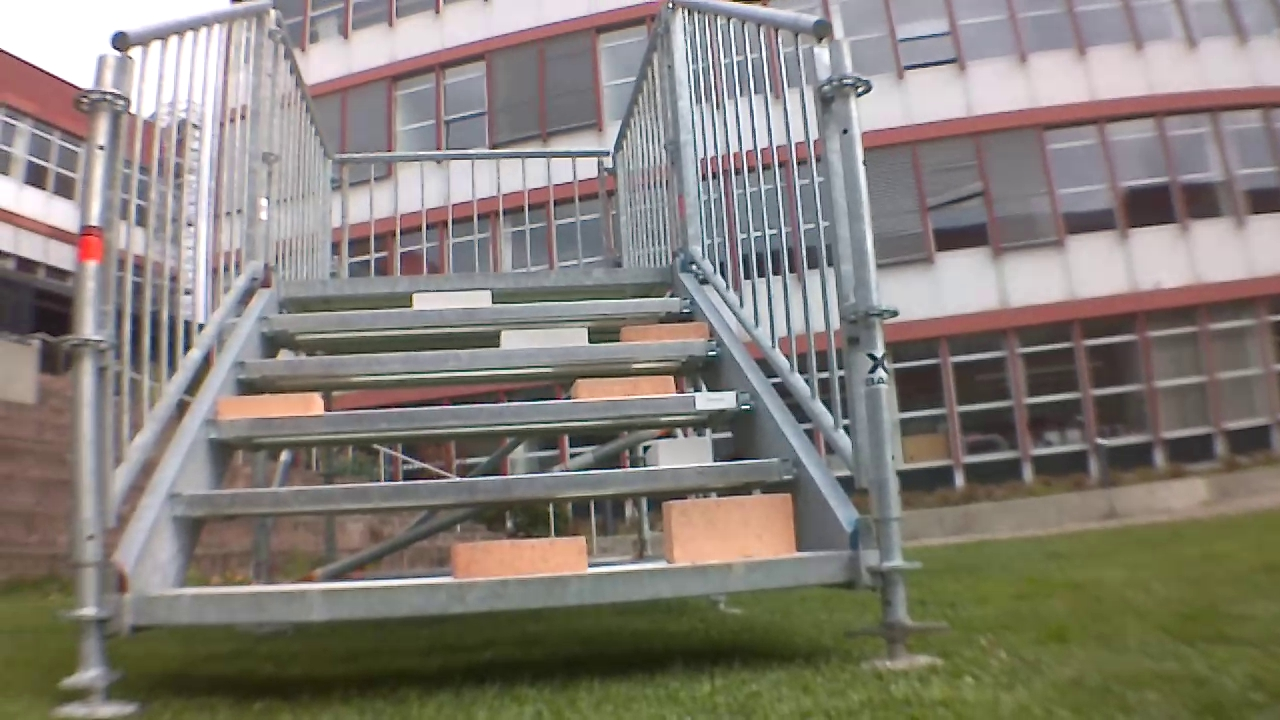brick: (650, 483, 803, 569), (451, 534, 585, 584), (213, 391, 324, 422), (642, 432, 722, 469), (558, 376, 676, 400), (487, 328, 589, 348), (609, 323, 706, 340), (414, 289, 495, 305)
edge: (135, 554, 859, 630), (167, 457, 792, 522), (199, 387, 758, 443), (226, 341, 725, 386), (250, 293, 701, 336), (270, 264, 670, 297)
stairs: (82, 6, 882, 673)
steps: (109, 274, 907, 622)
